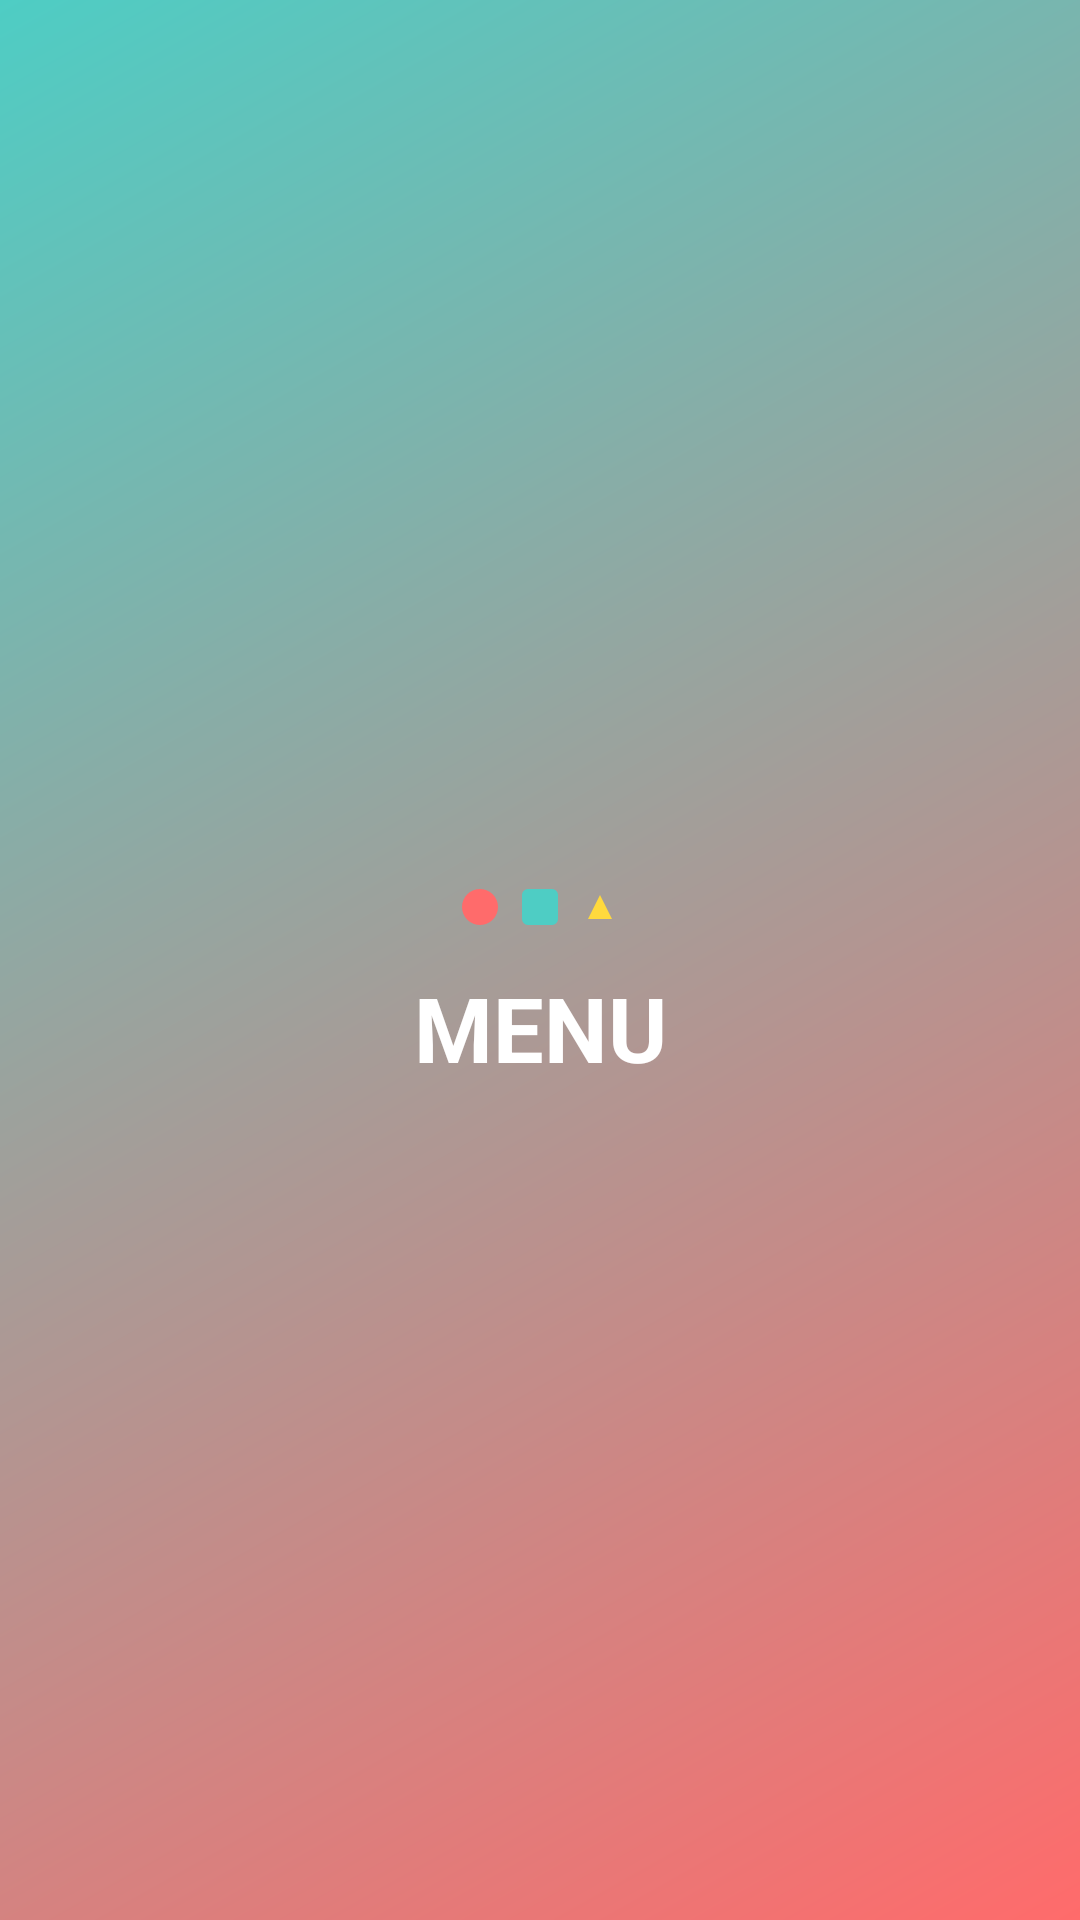

Icons on this 1080×1920 Android screen, each with its box as [x1=x1, y1=y1, x2=x2, y2=y2]:
Triángulo amarillo: [x1=588, y1=896, x2=612, y2=919]
